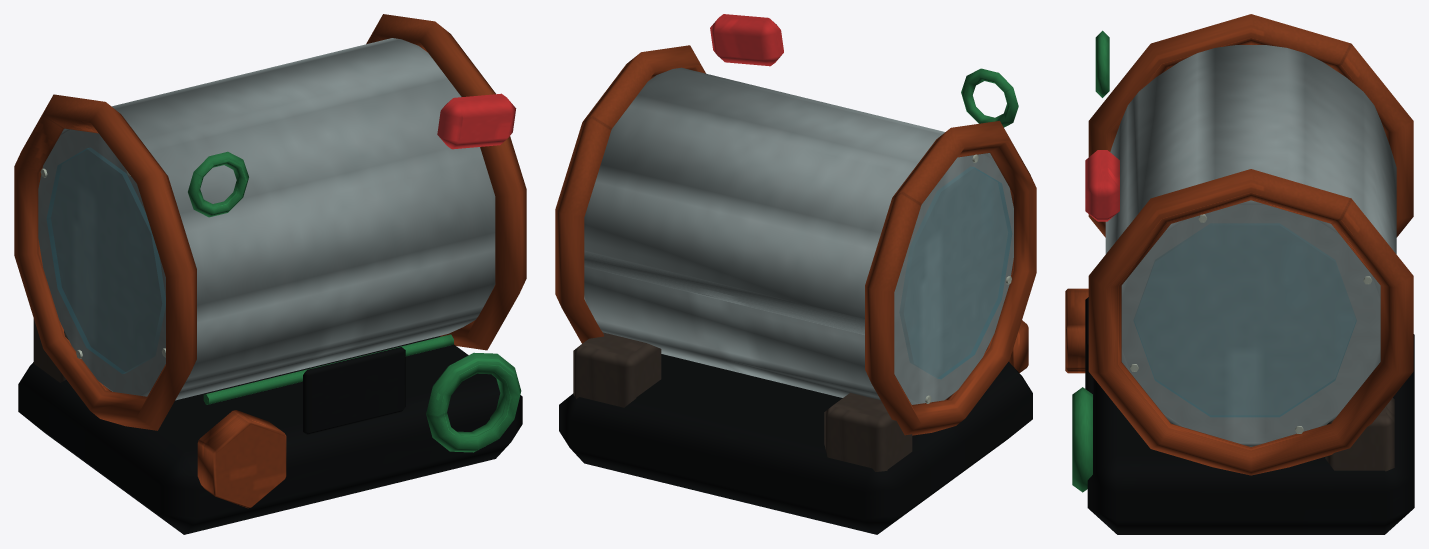
The model's file is starter-vault-low.glb.
3 views of the same model, side by side, from view 1: azimuth 30°, elevation 25°; view 2: azimuth 150°, elevation 25°; view 3: azimuth 270°, elevation 25° (orthographic). The views are drawn at different scales.
Visible parts, largest first — view 1: Vault_Capsule.001, Vault_Shock_Base.001, Vault_Collar_-0.001, Vault_Window.001, Vault_Collar_0.001, Vault_Control_Panel.001, PORT_Material.009, PORT_Life.008, STATE_DAMAGED.001, STATE_REPAIRED.001, Vault_Cryo_Line.001, Vault_Shock_Mount_-0.001; view 2: Vault_Capsule.001, Vault_Shock_Base.001, Vault_Collar_-0.001, Vault_Window.001, Vault_Collar_0.001, Vault_Shock_Mount_0.001, Vault_Shock_Mount_-0.001, STATE_DAMAGED.001, STATE_REPAIRED.001, PORT_Material.009; view 3: Vault_Capsule.001, Vault_Window.001, Vault_Collar_0.001, Vault_Shock_Base.001, Vault_Collar_-0.001, Vault_Shock_Mount_0.001, STATE_DAMAGED.001, PORT_Life.008, PORT_Material.009, STATE_REPAIRED.001, Vault_Control_Panel.001.
Boxes of the visible parts, bbox=[...] form: Vault_Capsule.001: bbox=[38, 38, 495, 400]; Vault_Shock_Base.001: bbox=[18, 336, 522, 534]; Vault_Collar_-0.001: bbox=[14, 94, 196, 430]; Vault_Window.001: bbox=[47, 148, 165, 373]; Vault_Collar_0.001: bbox=[366, 14, 526, 350]; Vault_Control_Panel.001: bbox=[303, 347, 405, 434]; PORT_Material.009: bbox=[197, 410, 286, 508]; PORT_Life.008: bbox=[426, 352, 521, 452]; STATE_DAMAGED.001: bbox=[437, 93, 516, 149]; STATE_REPAIRED.001: bbox=[188, 151, 248, 217]; Vault_Cryo_Line.001: bbox=[203, 334, 453, 404]; Vault_Shock_Mount_-0.001: bbox=[33, 319, 68, 382]; Vault_Capsule.001: bbox=[584, 67, 1013, 404]; Vault_Shock_Base.001: bbox=[559, 354, 1032, 534]; Vault_Collar_-0.001: bbox=[865, 121, 1036, 435]; Vault_Window.001: bbox=[900, 167, 1011, 378]; Vault_Collar_0.001: bbox=[555, 45, 705, 343]; Vault_Shock_Mount_0.001: bbox=[573, 332, 661, 407]; Vault_Shock_Mount_-0.001: bbox=[824, 392, 912, 471]; STATE_DAMAGED.001: bbox=[710, 14, 783, 66]; STATE_REPAIRED.001: bbox=[961, 68, 1018, 127]; PORT_Material.009: bbox=[1009, 320, 1028, 372]; Vault_Capsule.001: bbox=[1105, 45, 1396, 446]; Vault_Window.001: bbox=[1134, 224, 1356, 416]; Vault_Collar_0.001: bbox=[1088, 169, 1413, 475]; Vault_Shock_Base.001: bbox=[1087, 334, 1414, 534]; Vault_Collar_-0.001: bbox=[1088, 14, 1413, 237]; Vault_Shock_Mount_0.001: bbox=[1325, 398, 1394, 471]; STATE_DAMAGED.001: bbox=[1085, 150, 1119, 221]; PORT_Life.008: bbox=[1072, 387, 1092, 492]; PORT_Material.009: bbox=[1065, 288, 1088, 373]; STATE_REPAIRED.001: bbox=[1095, 30, 1109, 97]; Vault_Control_Panel.001: bbox=[1085, 297, 1093, 399].
Bounding box in the file's own units: 0.82 × 0.825 × 0.705.
8 materials, 8 textured.
